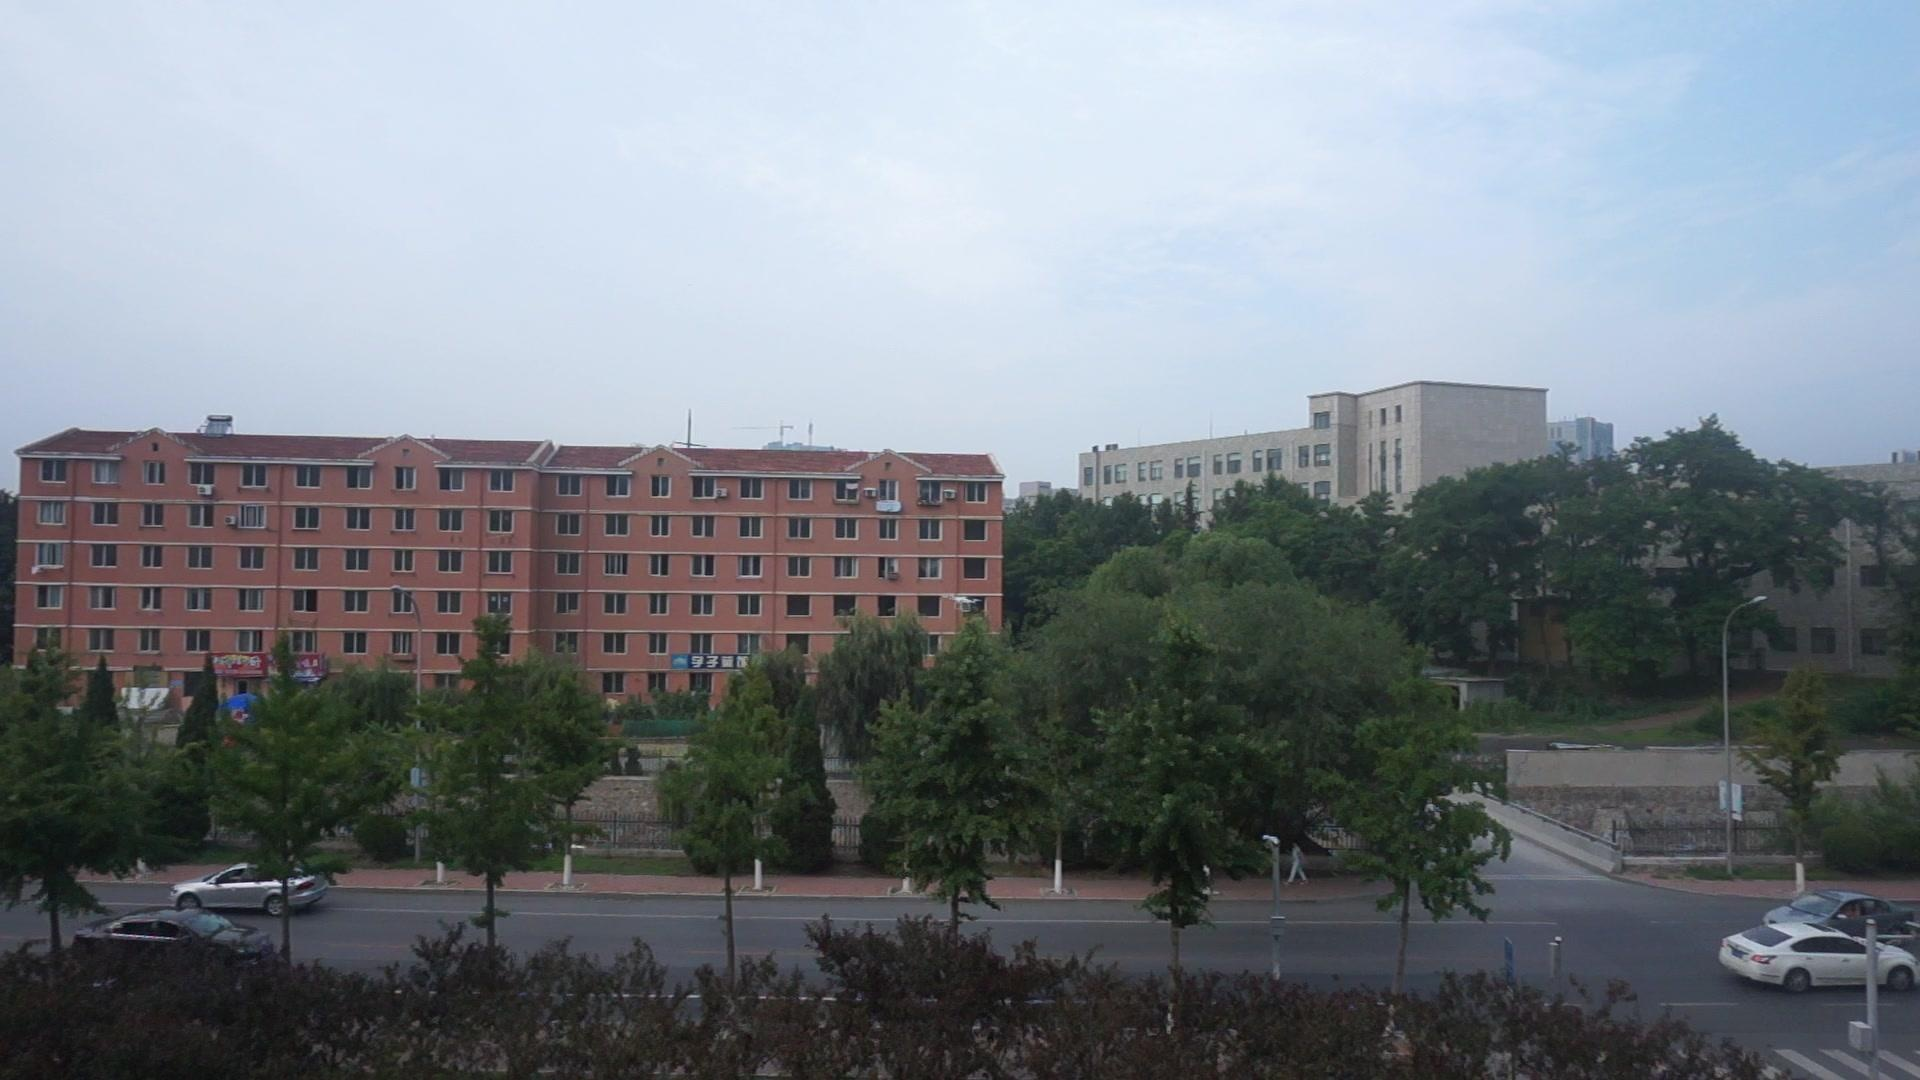UAV: (948, 597, 981, 613)
